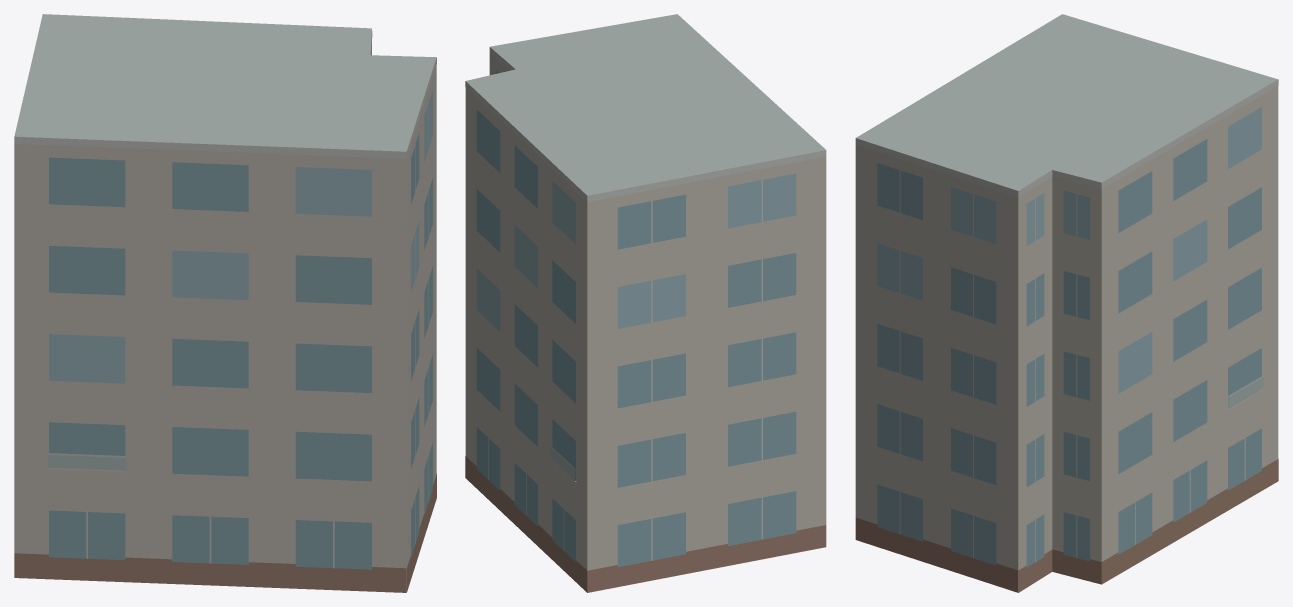
File: survey-upis-32549260.glb
The picture shows the model from 3 angles, left to right: view 1: azimuth 30°, elevation 25°; view 2: azimuth 150°, elevation 25°; view 3: azimuth 270°, elevation 25°; orthographic projection. The views are drawn at different scales.
Visible parts, largest first — view 1: survey-upis-32549260.tmp; view 2: survey-upis-32549260.tmp; view 3: survey-upis-32549260.tmp.
Part boxes in pixels (x1,y1,x2,y2): survey-upis-32549260.tmp: (14,14,436,592); survey-upis-32549260.tmp: (465,14,826,592); survey-upis-32549260.tmp: (855,14,1278,592).
Bounding box in the file's own units: 14.42 × 15.25 × 14.55.
